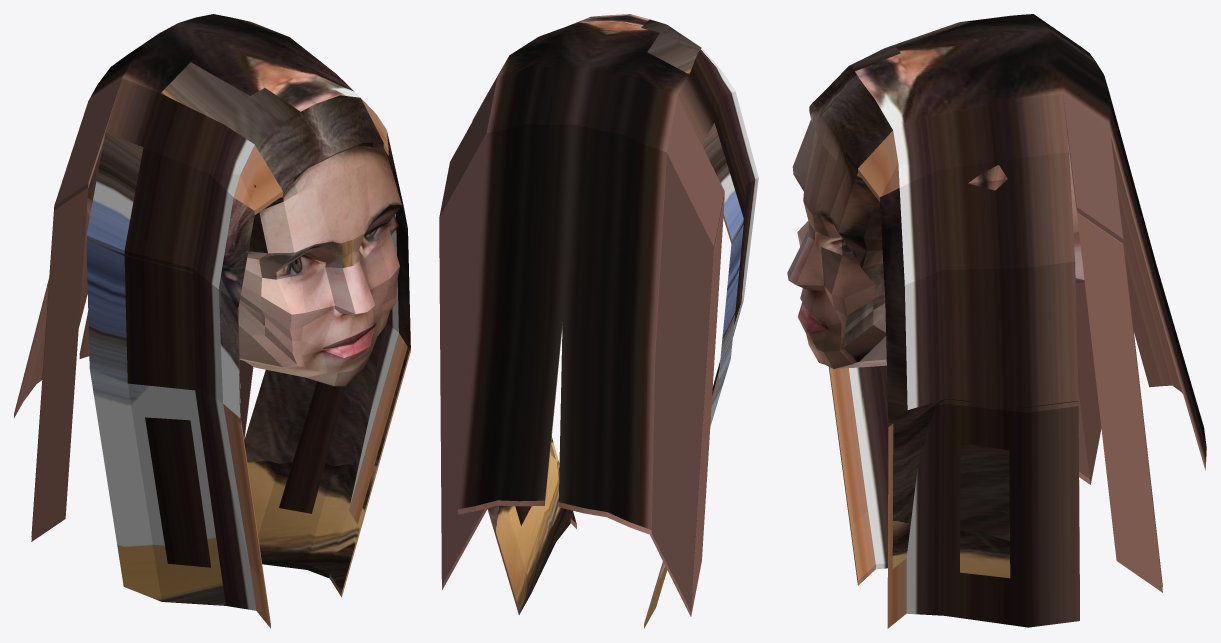
Rendered from helena.glb.
The picture shows the model from 3 angles, left to right: view 1: azimuth 30°, elevation 25°; view 2: azimuth 150°, elevation 25°; view 3: azimuth 270°, elevation 25°; orthographic projection. The views are drawn at different scales.
Visible parts, largest first — view 1: Cube; view 2: Cube; view 3: Cube.
Boxes of the visible parts, x1=… form: Cube: x1=14, y1=14, x2=410, y2=628; Cube: x1=439, y1=14, x2=758, y2=628; Cube: x1=787, y1=14, x2=1206, y2=628.
Bounding box in the file's own units: 1.08 × 1.99 × 1.33.
1 material, 1 textured.
